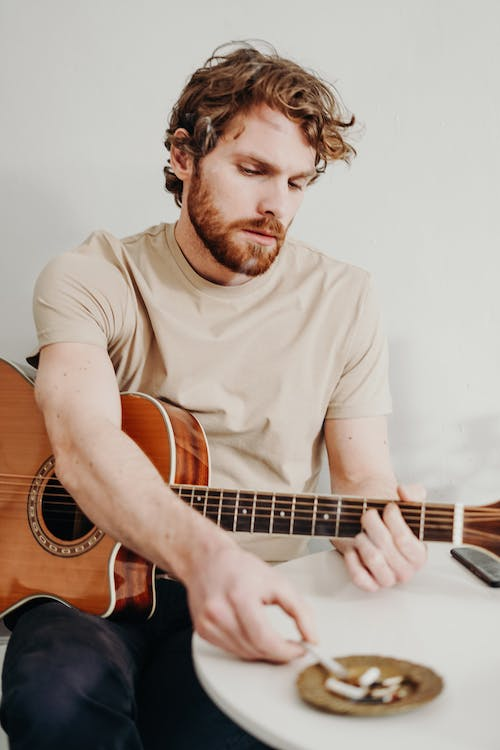cigarette: (296, 634, 347, 679), (325, 677, 372, 705), (384, 679, 418, 708), (379, 671, 420, 688), (354, 664, 379, 689)
